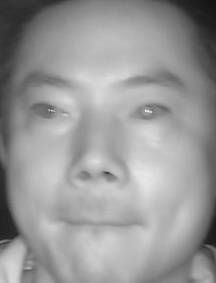eye: (123, 101, 173, 126), (29, 97, 71, 126)
mouth: (56, 199, 146, 245)
